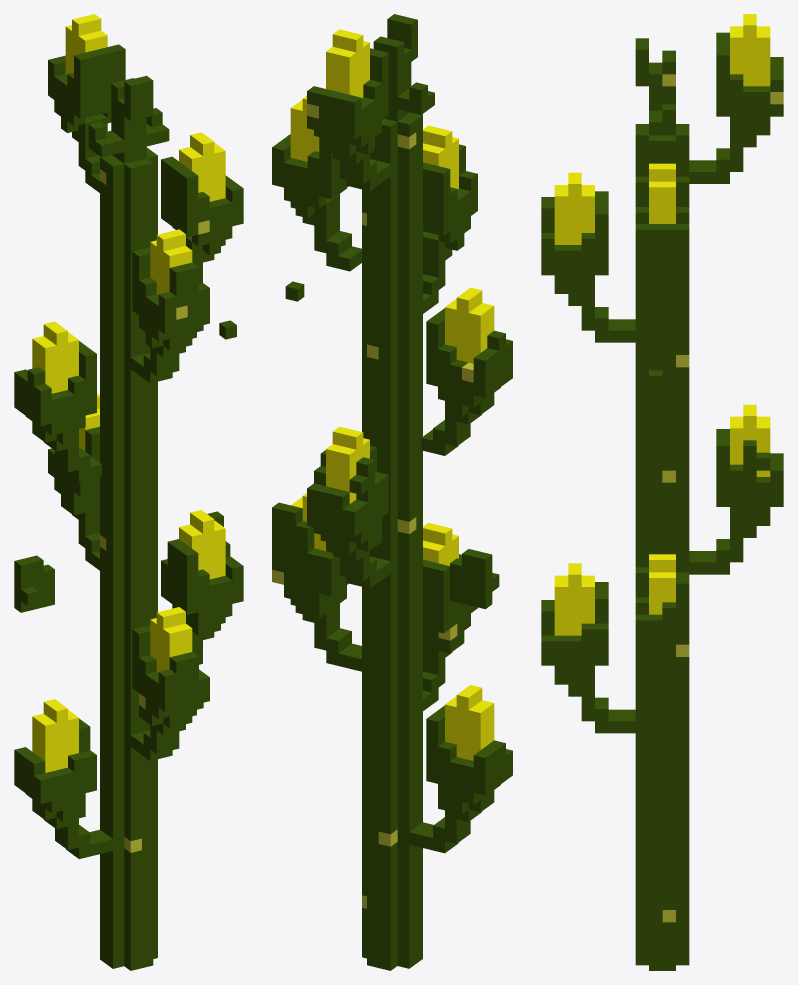
File: milho com praga.obj
3 renders of one model, left to right at view 1: azimuth 30°, elevation 25°; view 2: azimuth 150°, elevation 25°; view 3: azimuth 270°, elevation 25°, orthographic. The views are drawn at different scales.
Bounding box in the file's own units: 1.8 × 7.7 × 1.8.
1 material, 1 textured.
